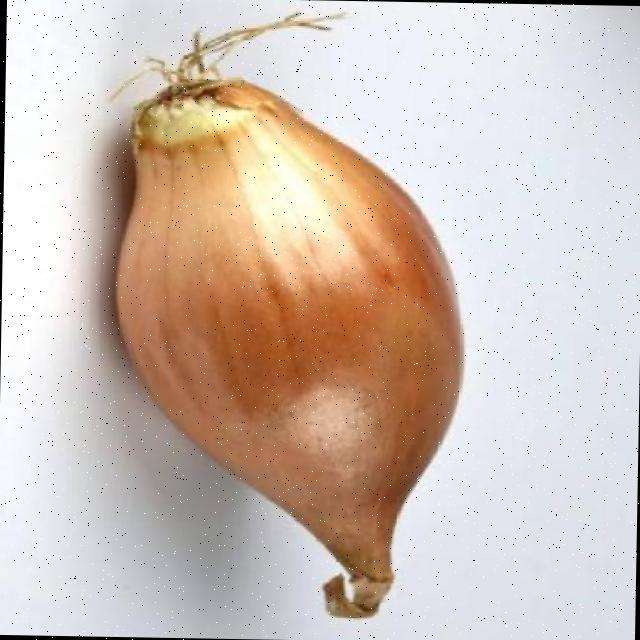Onion: (115, 69, 461, 620)
